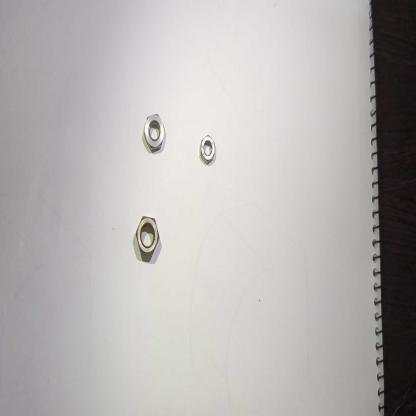NUTS: (142, 110, 166, 154), (198, 132, 219, 166), (134, 210, 134, 211)
